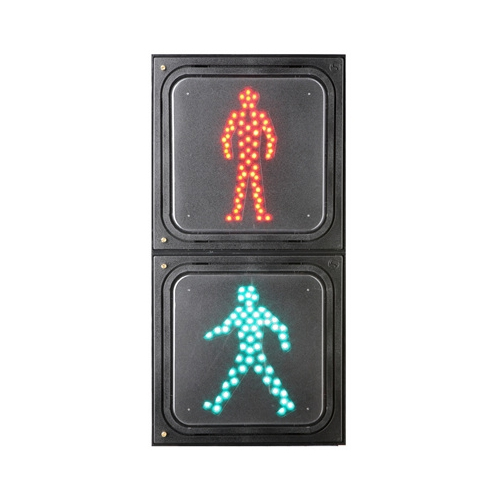traffic_light: (152, 56, 347, 445)
